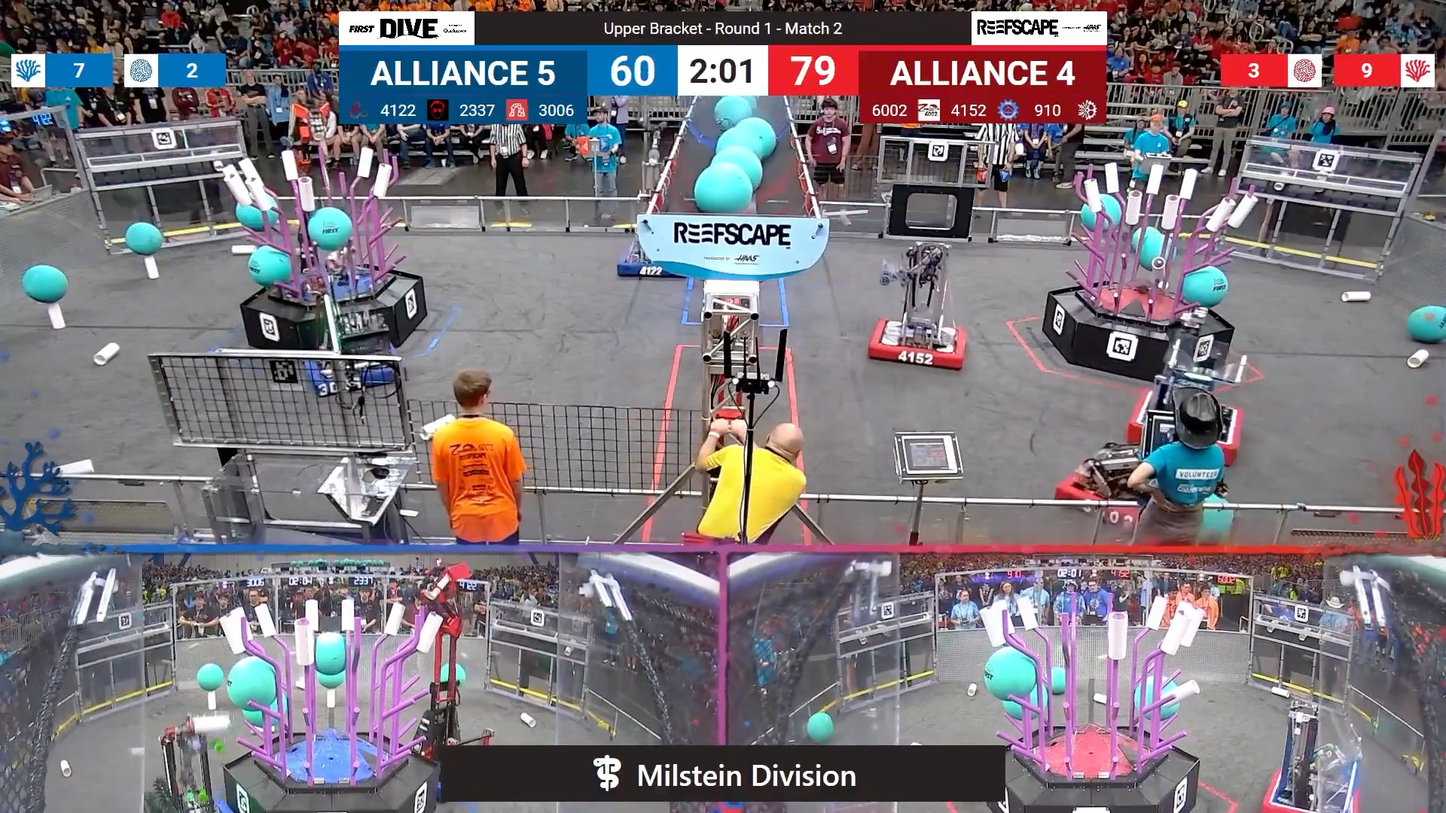bumpers: (1121, 389, 1249, 466), (859, 312, 977, 376), (1056, 455, 1159, 522), (1258, 757, 1365, 812), (300, 344, 407, 394), (127, 787, 236, 812), (610, 251, 678, 279)
